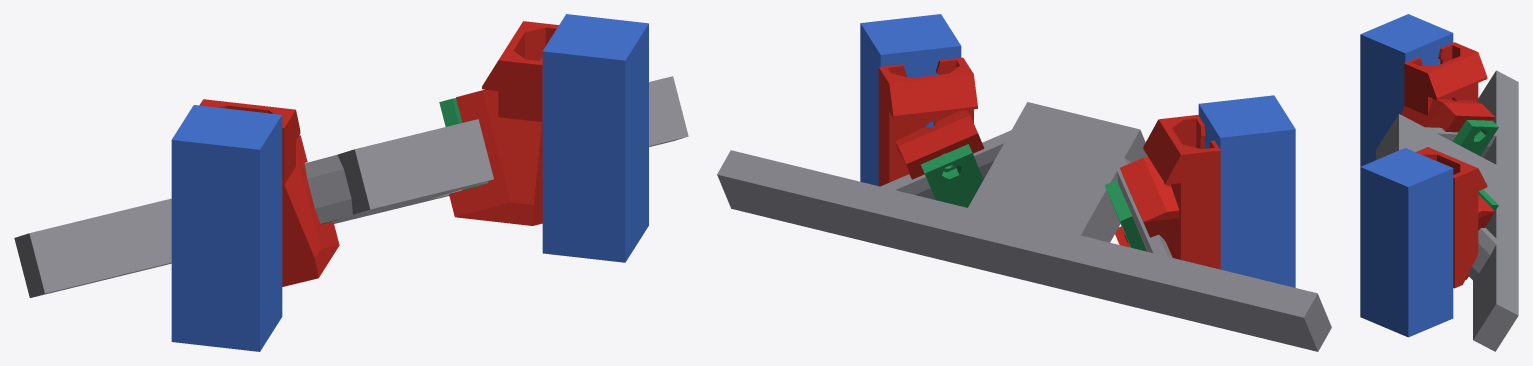
Rendered from assembly_m15.obj.
The picture shows the model from 3 angles, left to right: view 1: azimuth 30°, elevation 25°; view 2: azimuth 150°, elevation 25°; view 3: azimuth 270°, elevation 25°; orthographic projection. The views are drawn at different scales.
Visible parts, largest first — view 1: left_light_placeholder, right_light_placeholder, hanger_schematic, right_saddle, left_saddle; view 2: hanger_schematic, left_light_placeholder, left_saddle, right_saddle, right_light_placeholder, right_keeper, left_keeper; view 3: right_light_placeholder, hanger_schematic, left_light_placeholder, left_saddle, right_saddle, left_keeper, right_keeper.
Part boxes in pixels (x1,y1,x2,y2): left_light_placeholder: (171,105,282,351); right_light_placeholder: (542,14,648,262); hanger_schematic: (14,76,688,297); right_saddle: (449,21,558,225); left_saddle: (199,99,339,286); hanger_schematic: (717,102,1331,351); left_light_placeholder: (1198,95,1295,287); left_saddle: (1115,115,1220,269); right_saddle: (878,57,984,186); right_light_placeholder: (860,14,961,185); right_keeper: (921,144,983,207); left_keeper: (1104,180,1146,251); right_light_placeholder: (1360,148,1453,337); hanger_schematic: (1376,70,1518,351); left_light_placeholder: (1360,14,1453,166); left_saddle: (1401,42,1494,132); right_saddle: (1416,147,1494,288); left_keeper: (1452,120,1498,156); right_keeper: (1478,189,1498,210).
Bounding box in the file's own units: 260 × 78 × 74.52.
